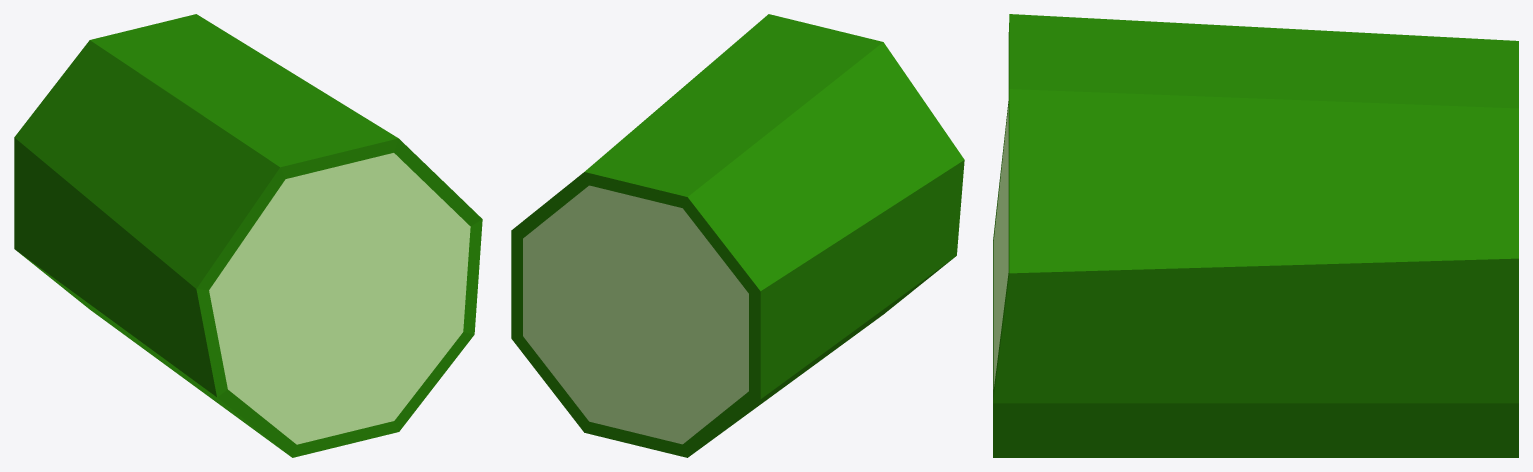
The model's file is cucumber02.obj.
3 views of the same model, side by side, from view 1: azimuth 30°, elevation 25°; view 2: azimuth 150°, elevation 25°; view 3: azimuth 270°, elevation 25° (orthographic). The views are drawn at different scales.
Visible parts, largest first — view 1: Cylinder; view 2: Cylinder; view 3: Cylinder.
Part boxes in pixels (left/top/right/bottom): Cylinder: left=14, top=14, right=482, bottom=457; Cylinder: left=511, top=14, right=964, bottom=457; Cylinder: left=993, top=14, right=1518, bottom=457.
Bounding box in the file's own units: 0.0554 × 0.0531 × 0.068.
Materials: 1 (1 with a texture image).
